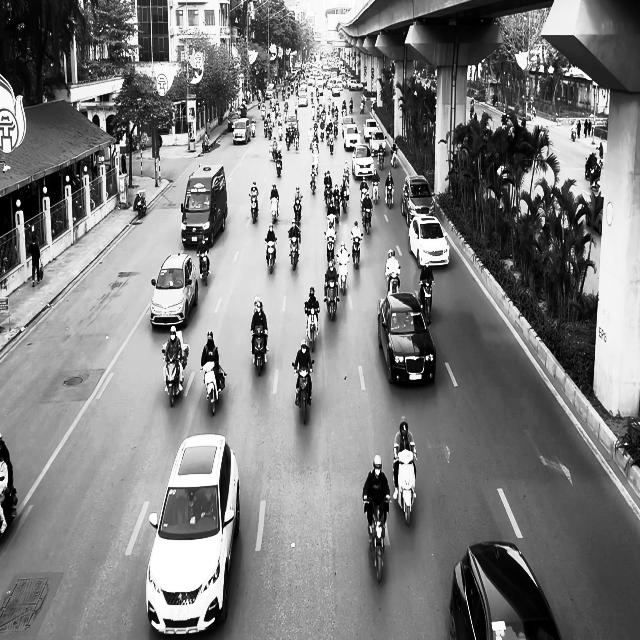car: (146, 433, 240, 635), (449, 540, 562, 640), (377, 292, 436, 385), (150, 252, 198, 329), (408, 214, 449, 268), (401, 175, 435, 227), (352, 144, 374, 178)
motorbike: (363, 496, 390, 582), (393, 450, 417, 526), (162, 344, 189, 406), (292, 361, 314, 424), (201, 361, 225, 415), (251, 328, 268, 376), (304, 302, 320, 352), (324, 274, 339, 321), (419, 279, 434, 323), (196, 248, 210, 286), (336, 253, 348, 294), (288, 229, 300, 270), (264, 238, 277, 274), (385, 266, 400, 295), (350, 234, 362, 268), (133, 189, 147, 218), (361, 206, 372, 234), (249, 194, 259, 224), (270, 197, 279, 223)
truck: (180, 164, 228, 248)
